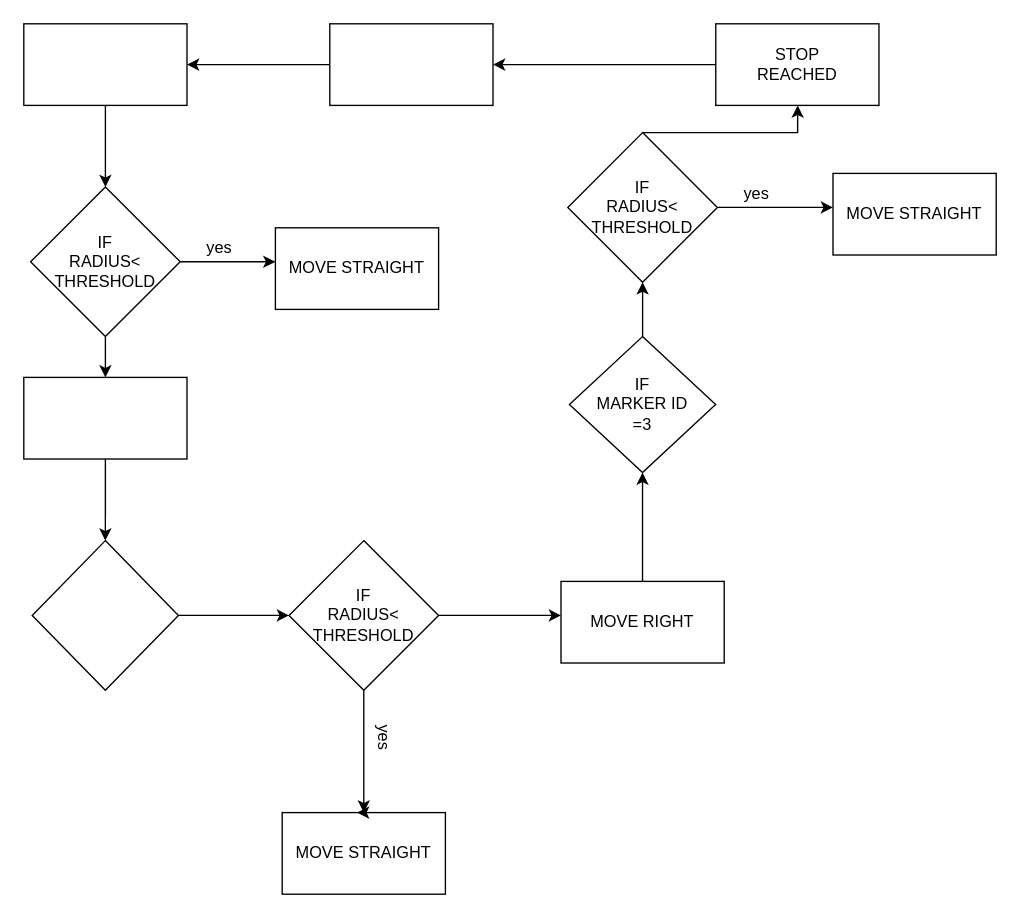
Image size: 1020x918. Some labels were removed from this diagram. The centre of each missing label's shape, as x and y in pixels:
"BOT SIMULATION GAZEBO" belongs at point (410, 63).
"ControlLoop CLASS" belongs at point (104, 63).
"IF MARKER ID =2" belongs at point (104, 614).
"MOVE LEFT" belongs at point (104, 417).
